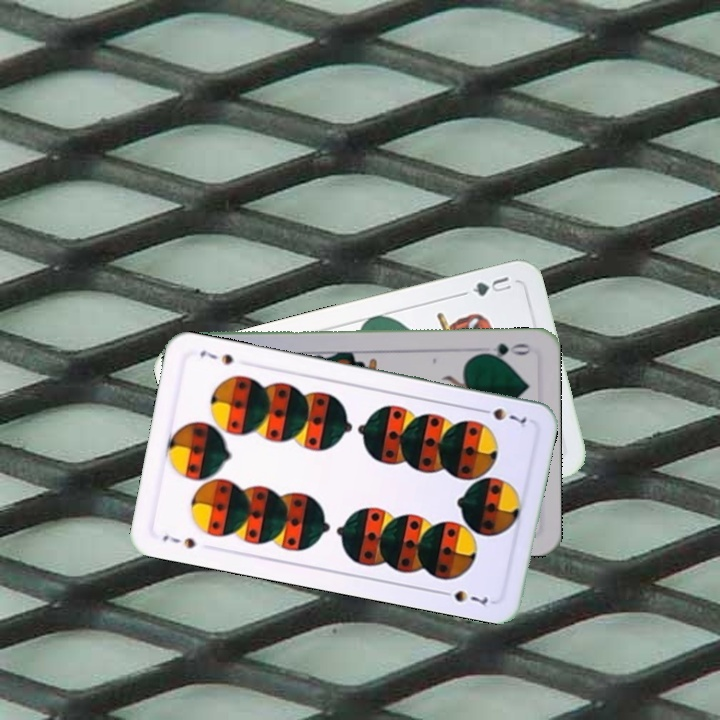GO: (475, 339, 534, 362)
GU: (468, 272, 514, 299)
S7: (474, 404, 529, 426), (158, 531, 198, 552)
